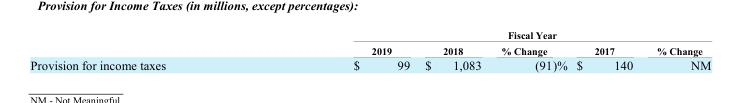table: (29, 29, 710, 72)
table column: (29, 29, 258, 72), (258, 29, 416, 72), (490, 29, 571, 72), (416, 29, 490, 72), (571, 29, 644, 72), (644, 29, 710, 72)
table column header: (29, 29, 710, 57)
table row: (29, 42, 710, 57), (29, 57, 710, 72), (29, 29, 710, 42)
table spanning cell: (258, 29, 710, 42)
